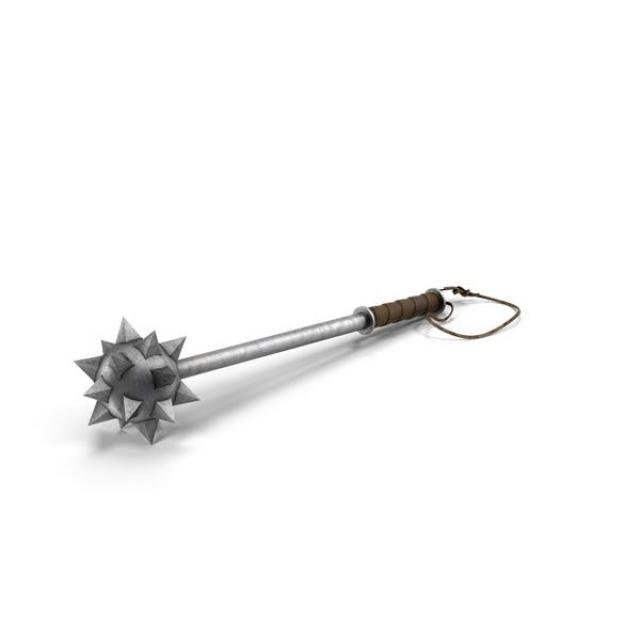mace: (78, 286, 447, 448)
